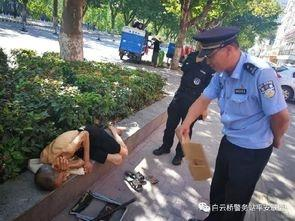bending: (177, 22, 290, 221)
down: (26, 119, 133, 192)
up: (152, 30, 214, 166)
